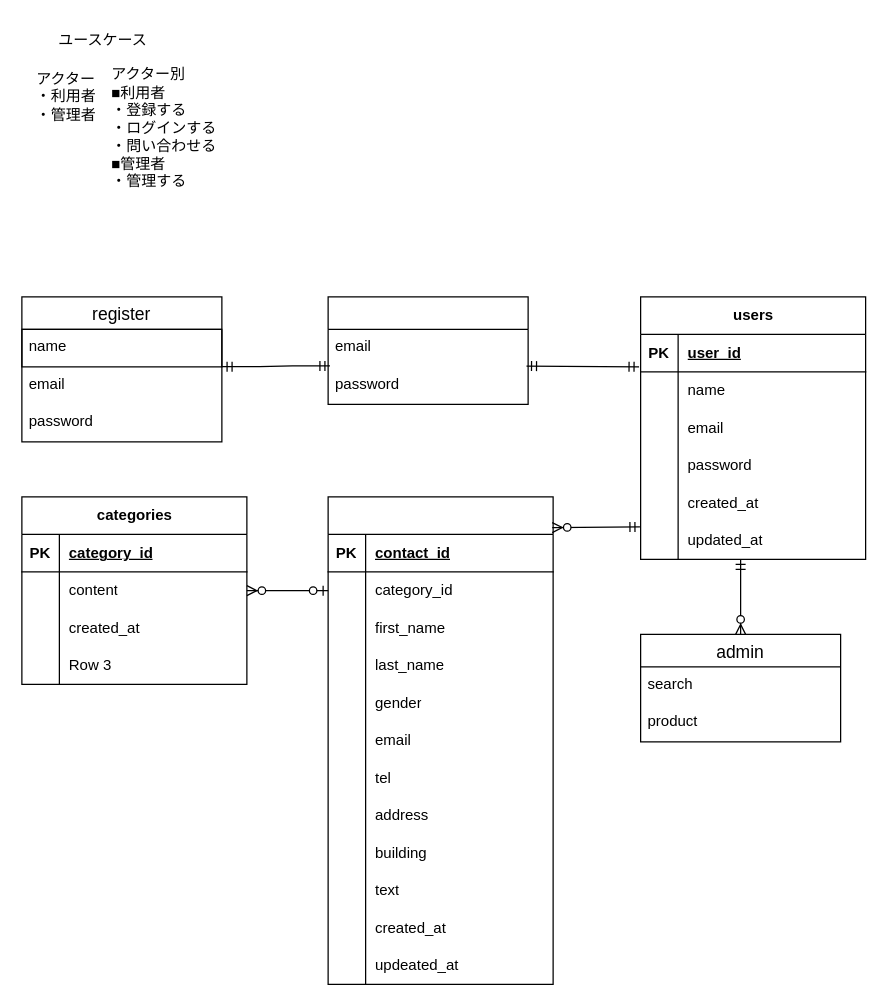
Some shapes in this 888 by 1006 pixel diagram are drawn without their labels. The shapes that lost their labels are listed below. From the top down, each one's box as (x1, y1, x2, y2) in pixels, then its label:
(327, 296, 528, 404): login
(327, 496, 553, 984): contacts
